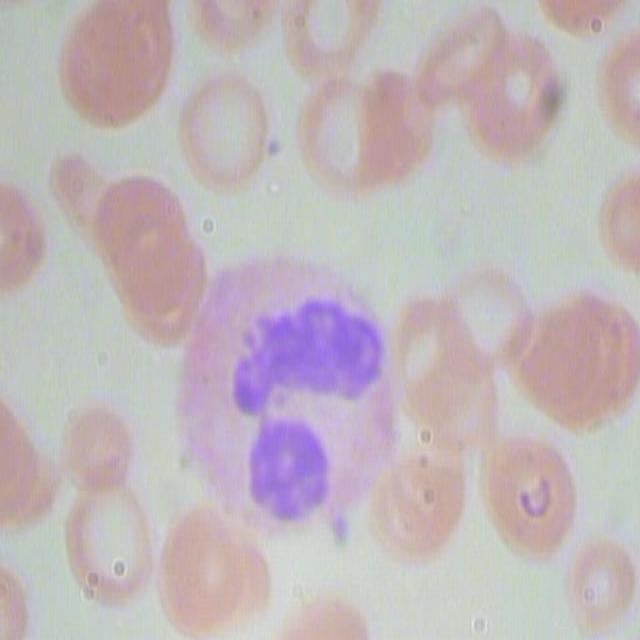RBC: (338, 385, 463, 565), (500, 277, 638, 437), (97, 170, 207, 355), (286, 69, 422, 203), (146, 489, 264, 636), (451, 9, 562, 160), (54, 2, 173, 131), (64, 473, 166, 605), (175, 70, 279, 198), (480, 432, 576, 560), (384, 289, 479, 413), (562, 525, 640, 631), (282, 0, 382, 76), (177, 0, 280, 55), (599, 7, 640, 145), (0, 160, 40, 300)
WBC: (171, 243, 403, 525)
